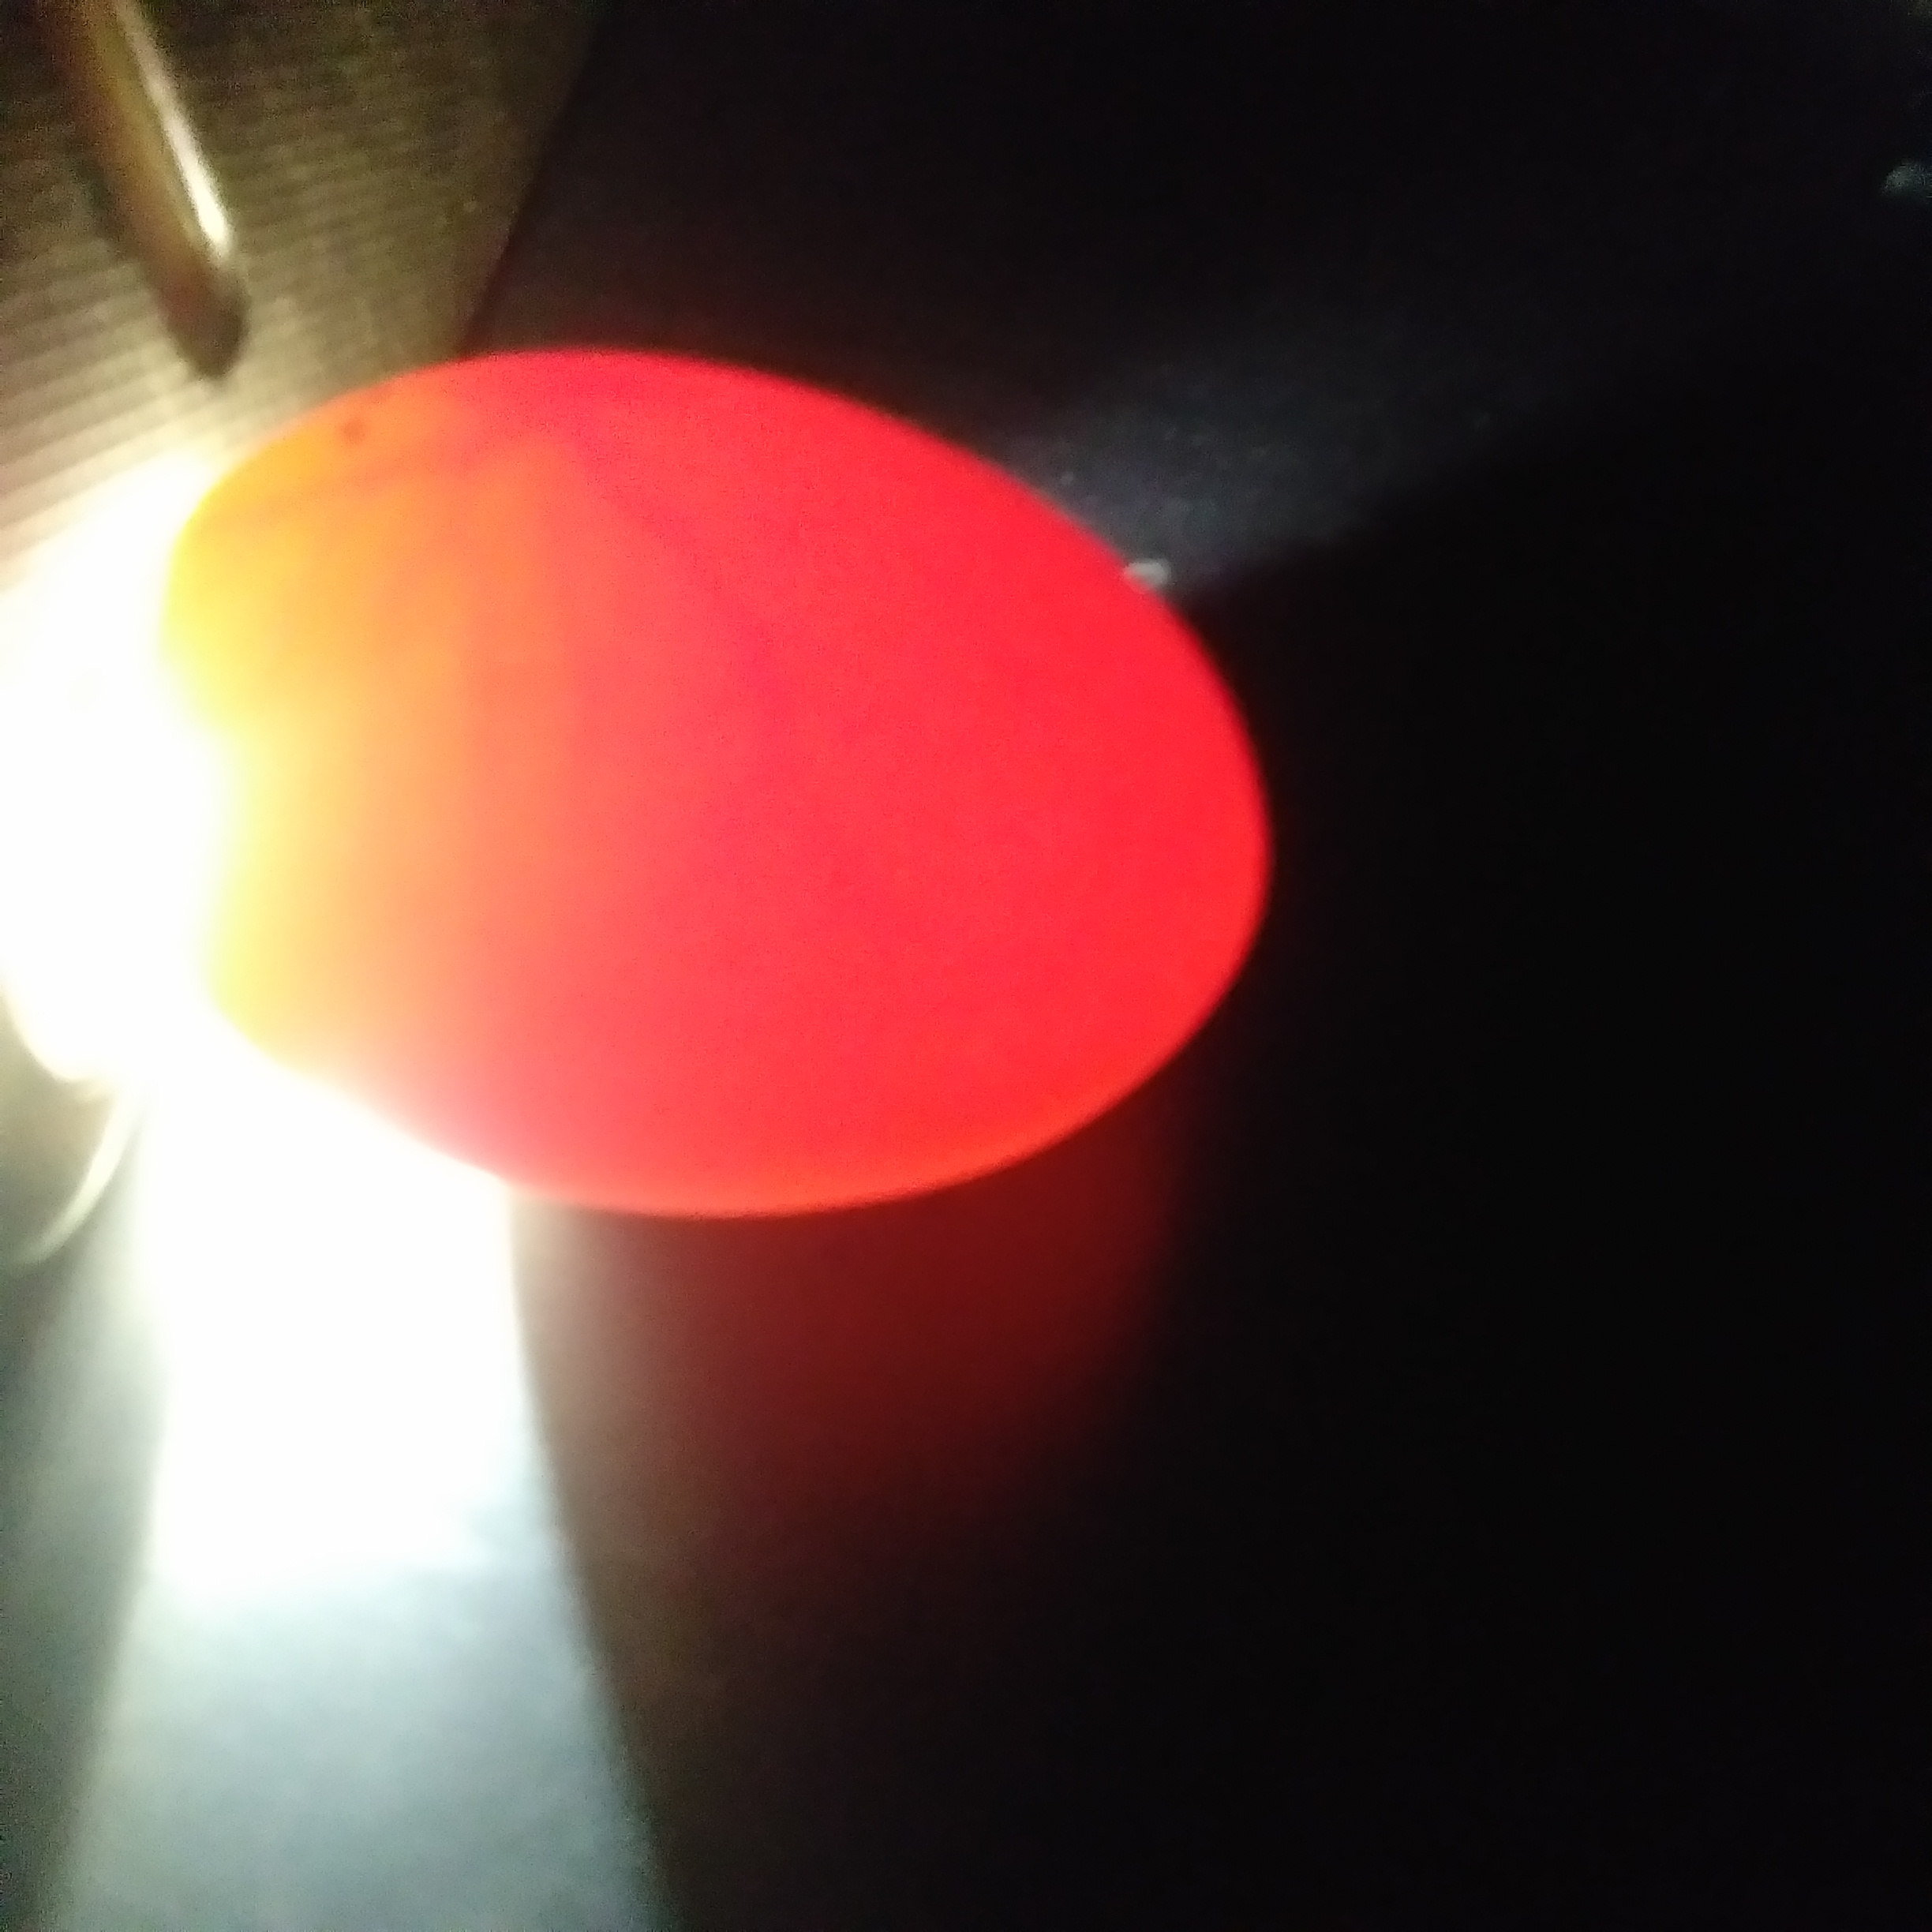bloodcell: (370, 453, 809, 957)
